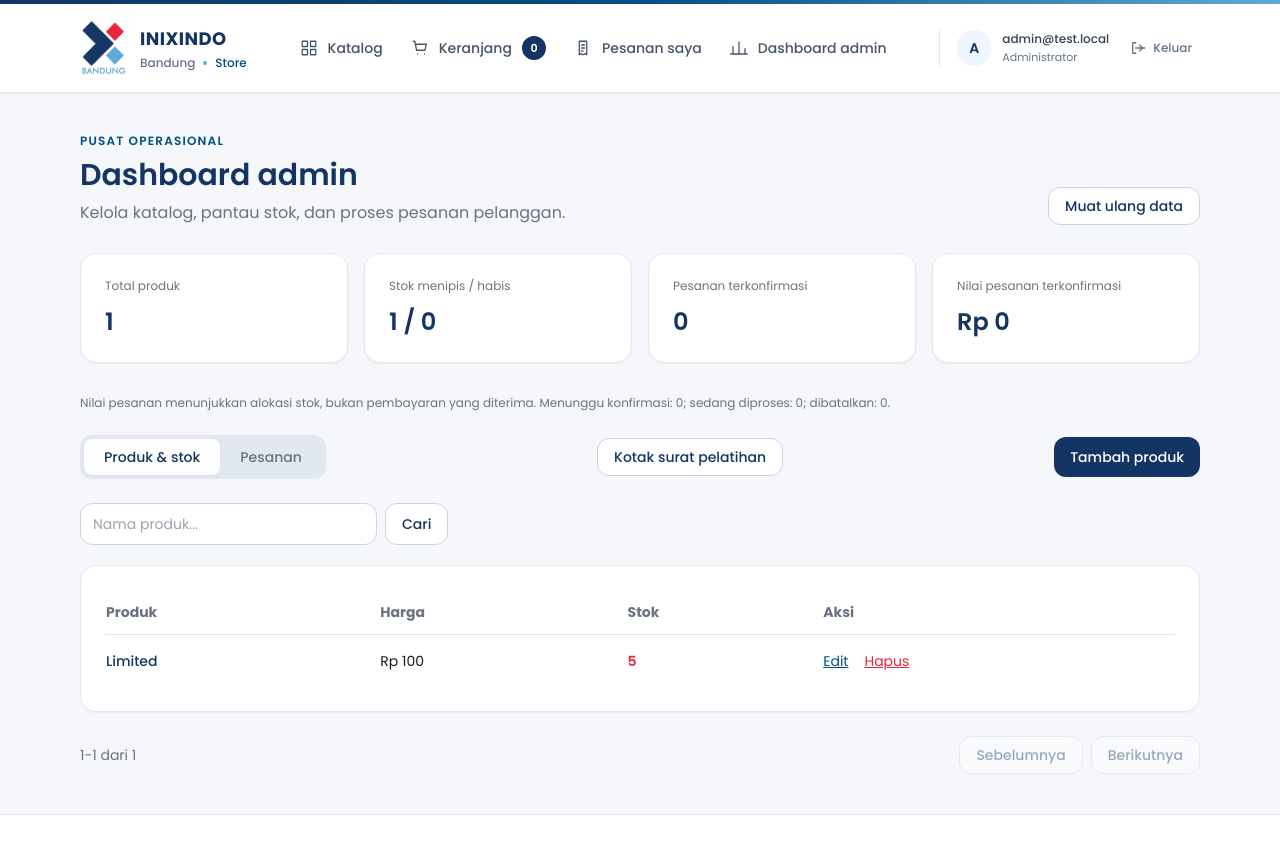
Scenario: admin UI › saves product edits with the original revision to protect stock
Click the button named "Edit Limited" at (836, 661), box [823,651,848,671]
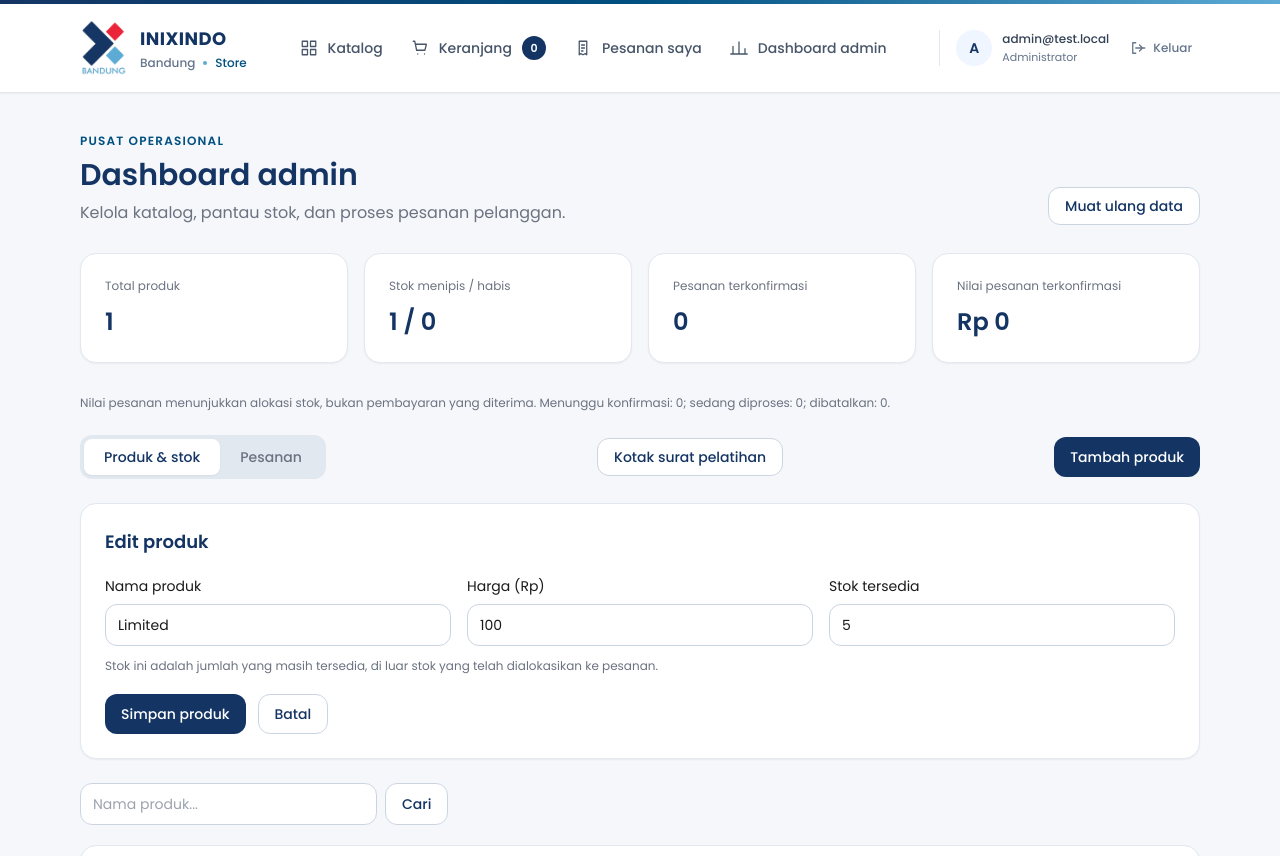
Replace the text in the number field labelled "Harga (Rp)" with "200" at (640, 625), box [467,604,813,646]
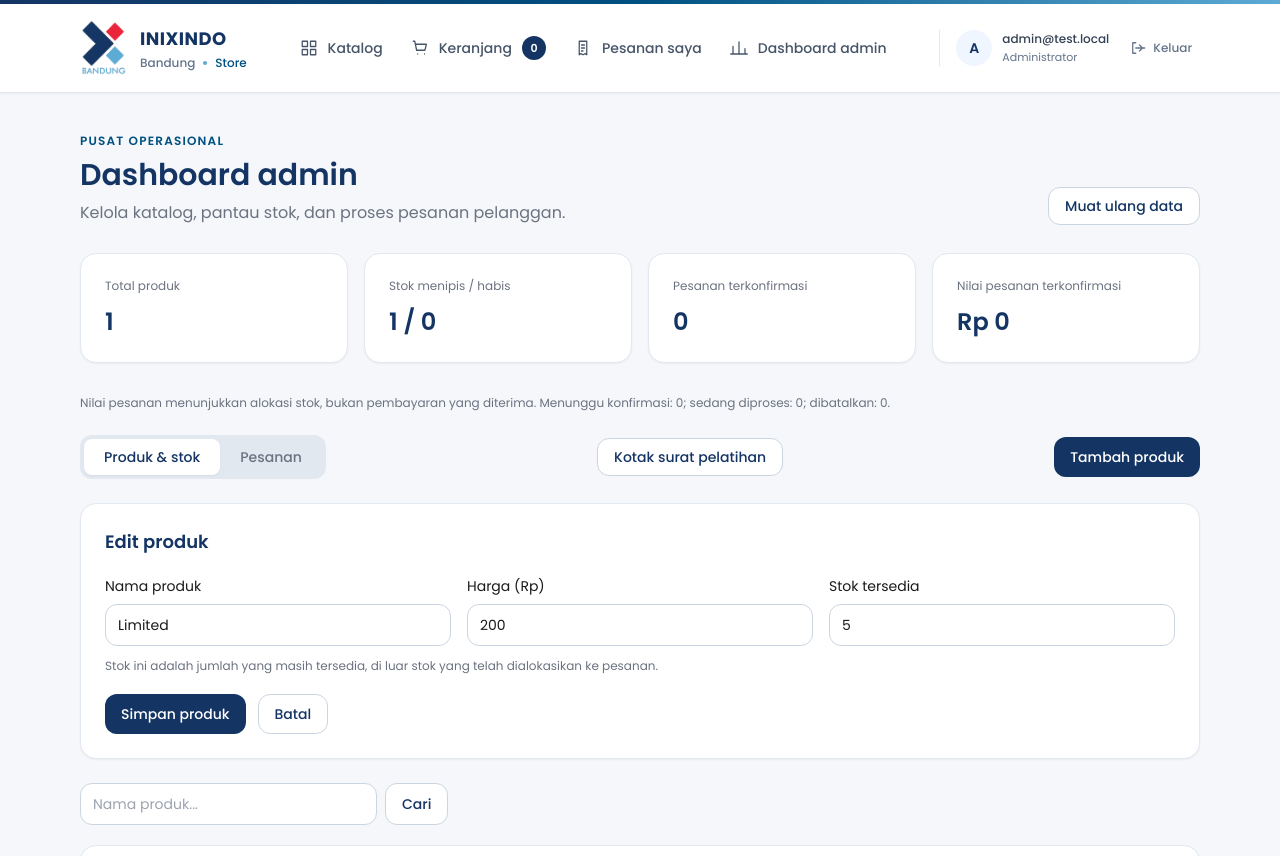
Click the button "Simpan produk" at (175, 714), box [105,694,246,734]
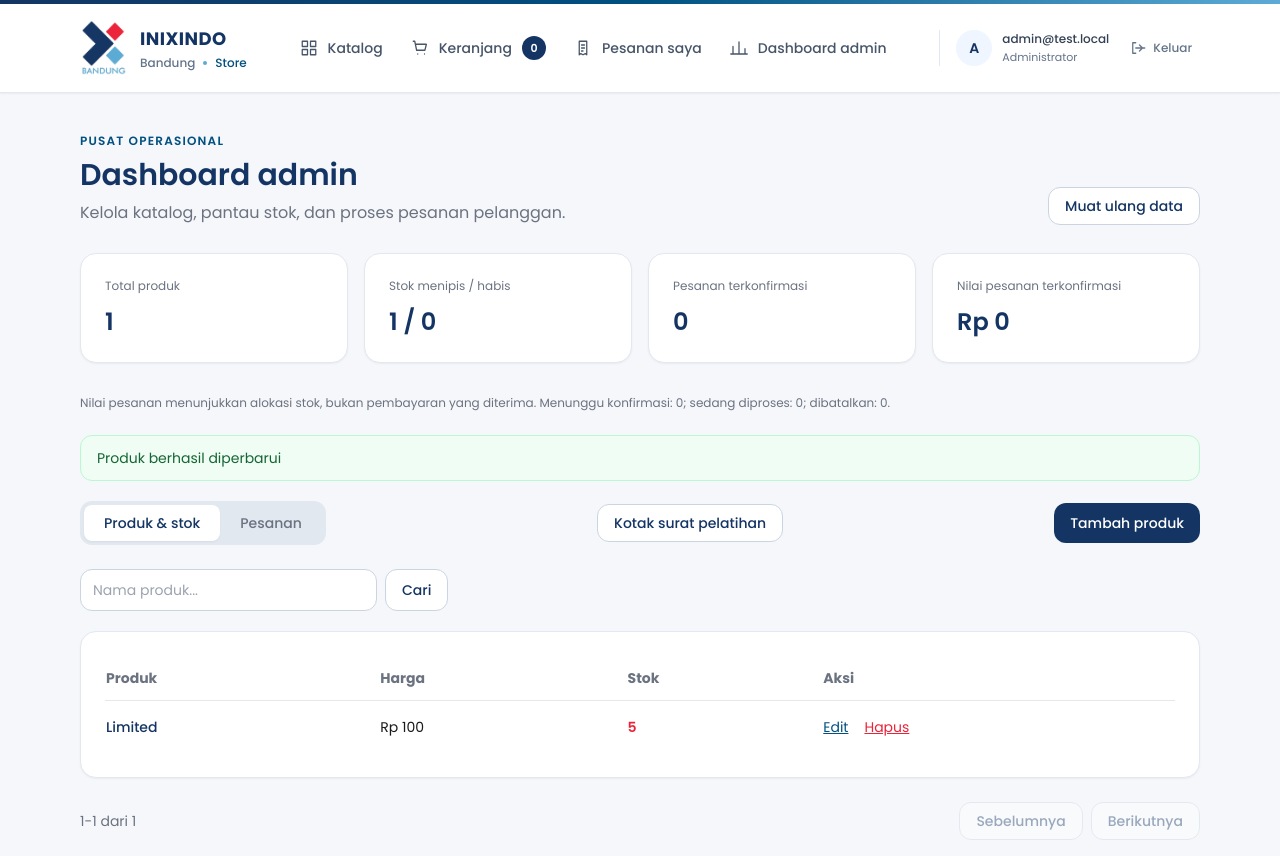
Now the text "Produk berhasil diperbarui" is shown, box [80,435,1200,481]
